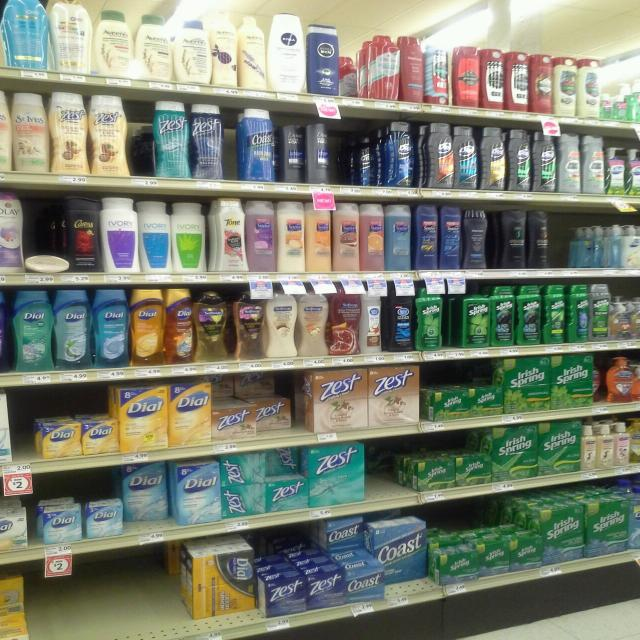void: (83, 553, 137, 639), (144, 546, 186, 640), (27, 565, 78, 640), (24, 192, 62, 275), (126, 92, 156, 188), (370, 446, 412, 510), (4, 391, 36, 472), (224, 96, 247, 195), (580, 219, 617, 276), (344, 12, 366, 106), (355, 119, 381, 194), (332, 114, 356, 195), (554, 209, 580, 279), (606, 50, 624, 132), (446, 282, 464, 362)
